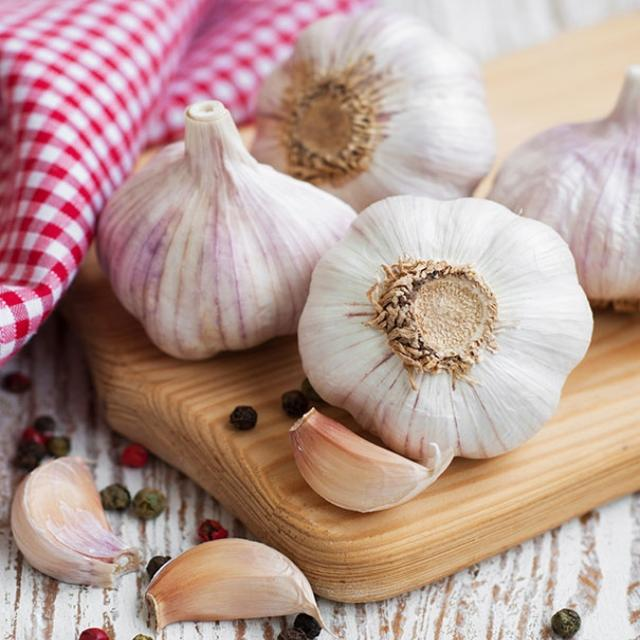garlic: (297, 195, 590, 458), (96, 100, 353, 357), (251, 9, 492, 209), (488, 65, 638, 308), (289, 407, 452, 511), (10, 455, 138, 586), (145, 537, 323, 628)
